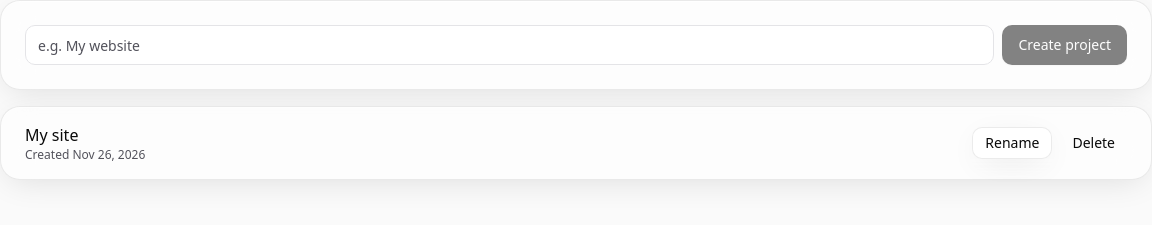
it: rename › shows the server's error and stays in edit mode
Click the button "Rename": (1012, 143) [972,127,1052,159]
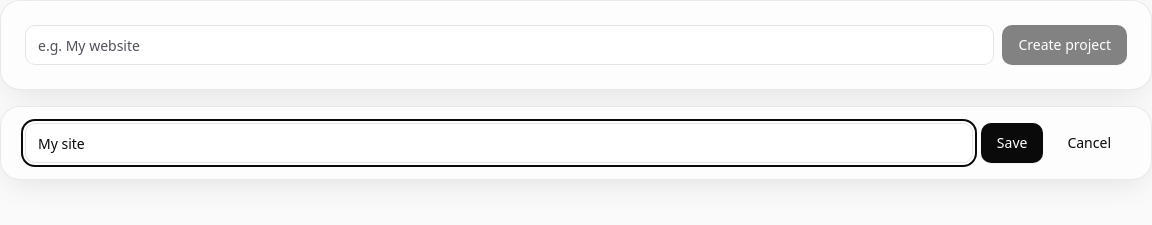
In the field named "New name": (499, 143) [25,123,973,163], type "!"
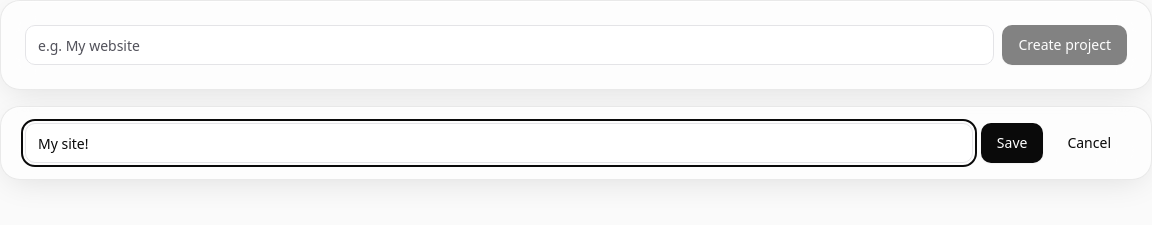
Click the button "Save": (1012, 143) [981,123,1043,163]
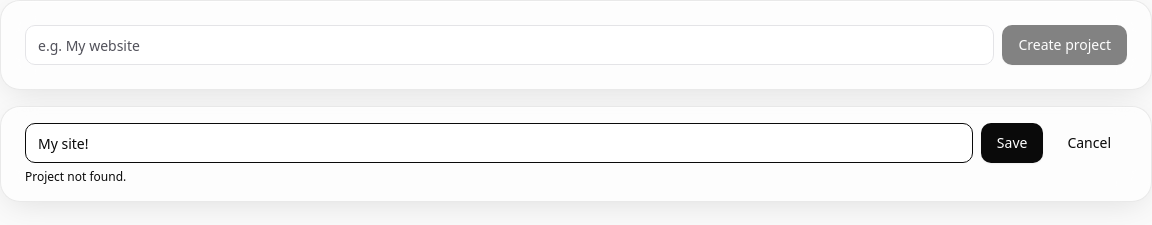
Expected: the field named "New name" is shown, [25,123,973,163]
Expected: the text "Project not found." is shown, [25,168,126,185]
